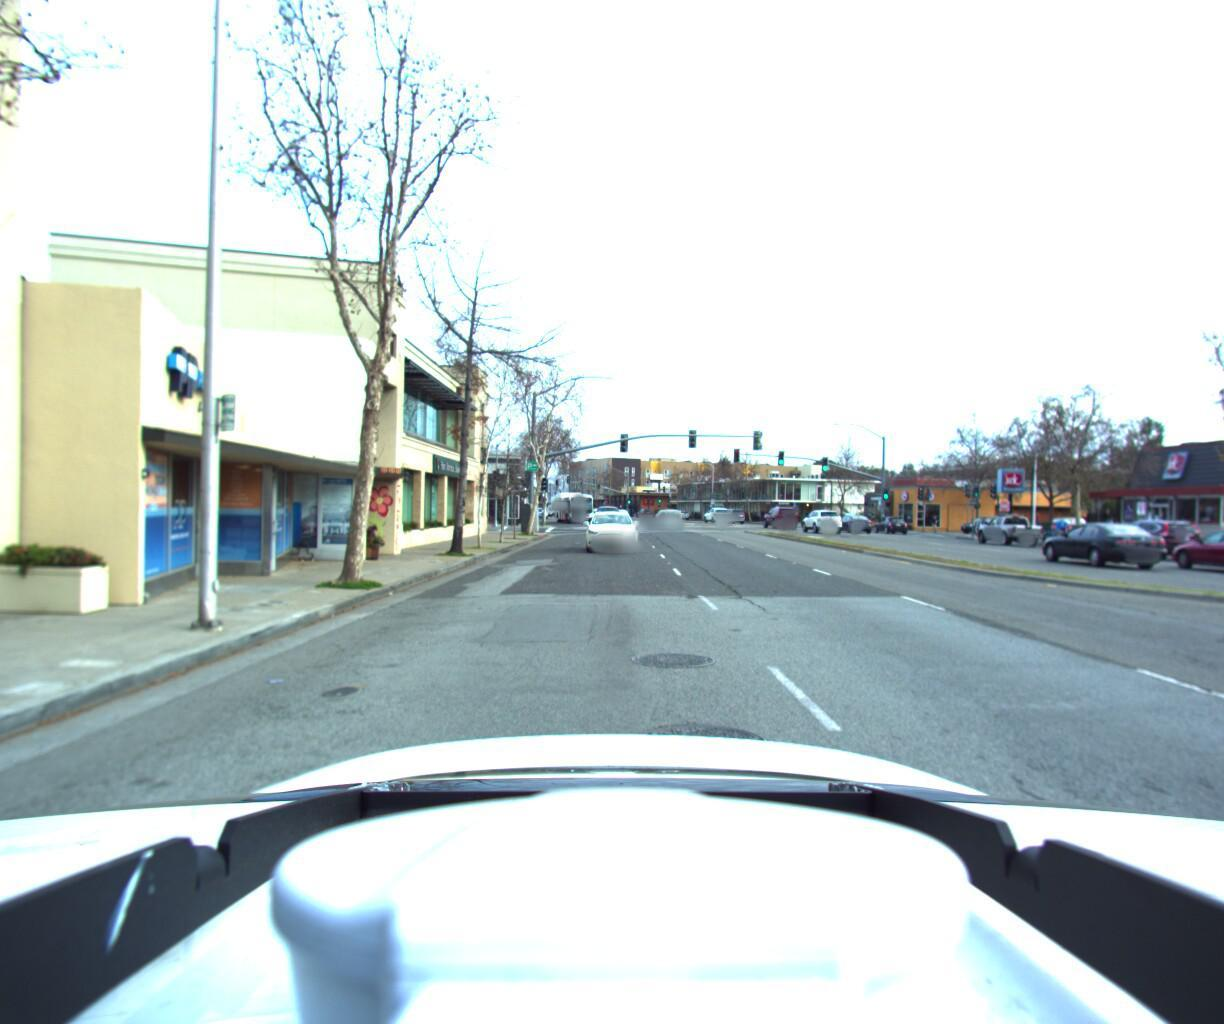bus: (550, 490, 597, 524)
car: (1022, 521, 1153, 568), (1091, 515, 1199, 557), (1150, 524, 1224, 576), (583, 509, 639, 553), (971, 513, 1040, 545), (1196, 519, 1224, 570), (797, 508, 841, 532), (830, 513, 871, 532), (760, 505, 797, 527), (657, 509, 685, 527)
